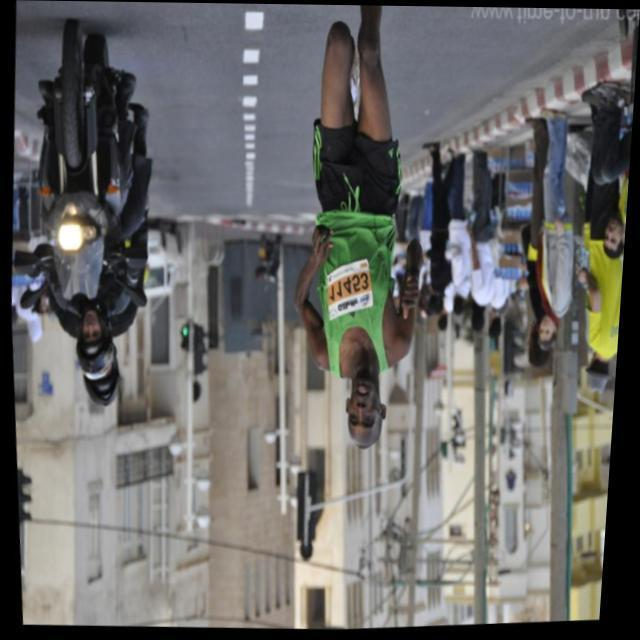dorsal: (314, 255, 381, 328)
